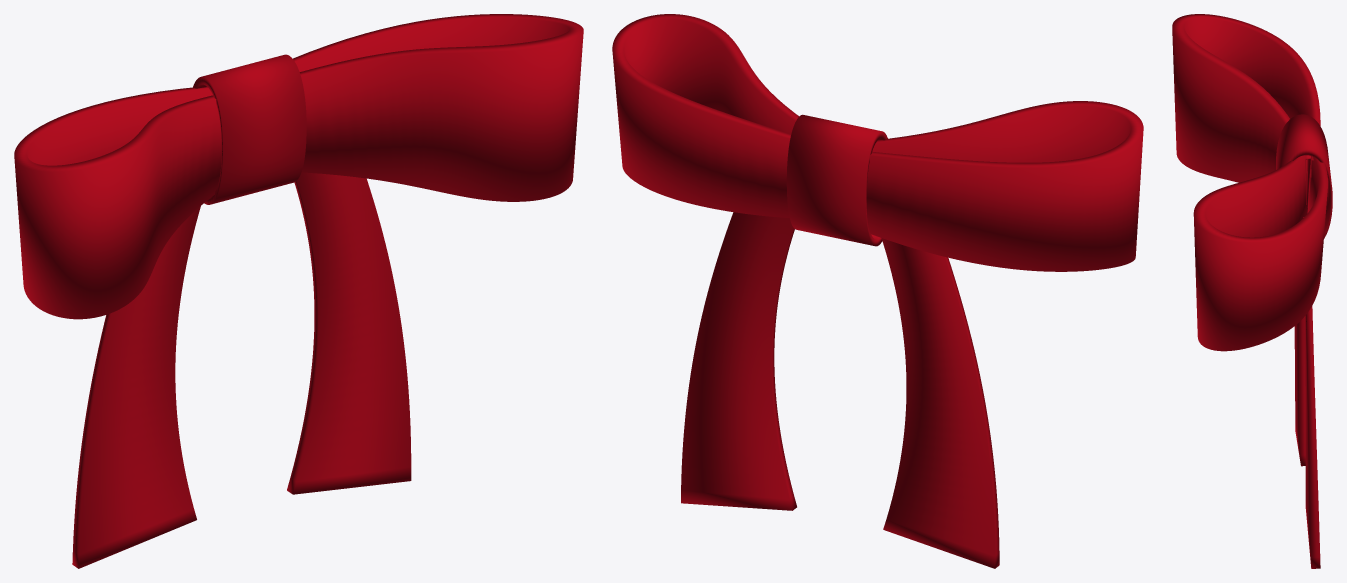
File: GiftBow.fbx
3 views of the same model, side by side, from view 1: azimuth 30°, elevation 25°; view 2: azimuth 150°, elevation 25°; view 3: azimuth 270°, elevation 25° (orthographic). The views are drawn at different scales.
Visible parts, largest first — view 1: Bow.002; view 2: Bow.002; view 3: Bow.002.
Part boxes in pixels (x1=…): Bow.002: x1=14, y1=14, x2=583, y2=568; Bow.002: x1=612, y1=14, x2=1143, y2=568; Bow.002: x1=1172, y1=14, x2=1332, y2=568.
Size of the model in its own units: 117 by 93.86 by 35.42.
